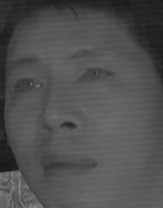eye: (75, 64, 118, 87), (8, 76, 46, 97)
mouth: (41, 149, 99, 182)
